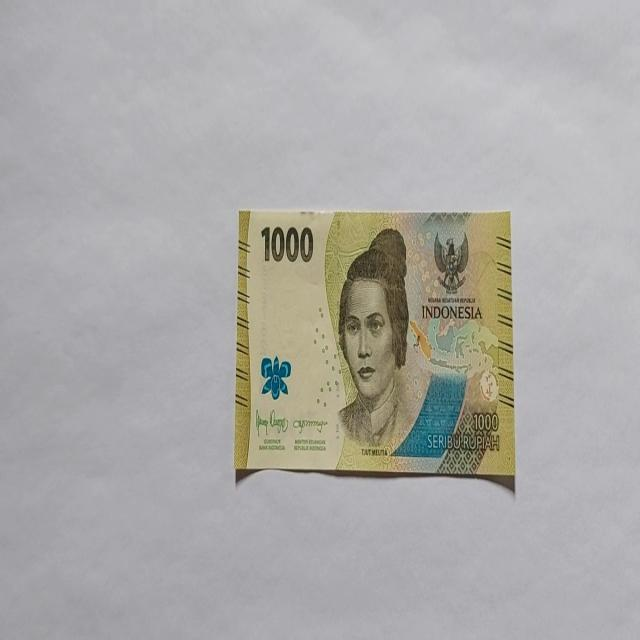seribu rupiah kertas: (234, 207, 514, 485)
